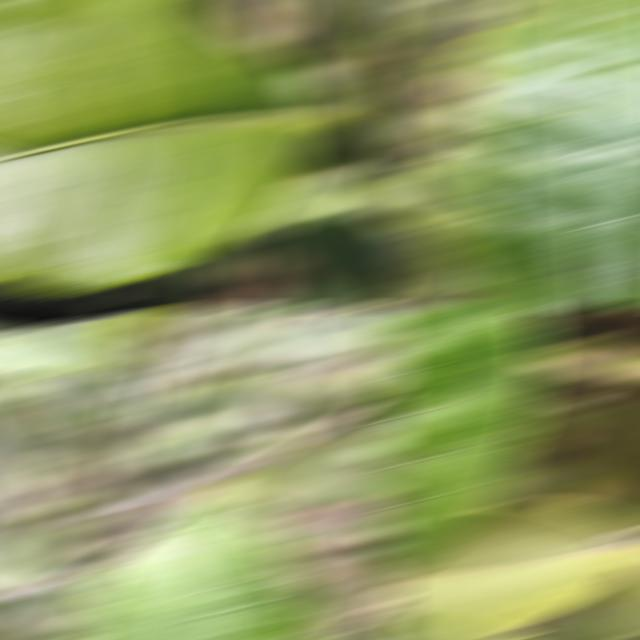Leaf: (0, 2, 332, 288), (402, 2, 640, 304), (379, 310, 550, 583), (66, 478, 328, 638), (379, 504, 640, 629), (251, 176, 401, 304), (530, 382, 640, 507), (227, 439, 401, 505), (208, 321, 373, 368), (0, 331, 136, 376), (529, 338, 640, 376), (379, 622, 533, 638)
